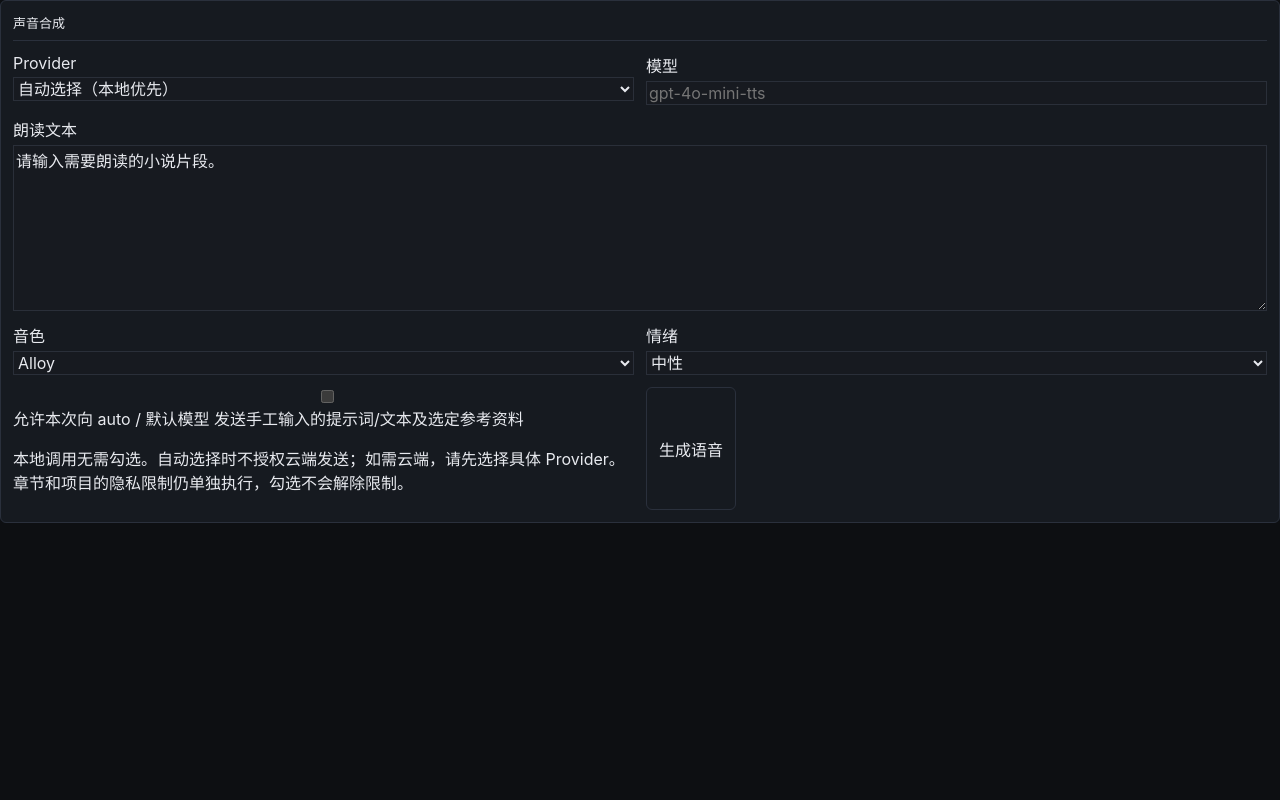
Scenario: publishes a failed speech task without audio
Step 1. Click the button "生成语音" → (691, 448), box [646,387,736,510]
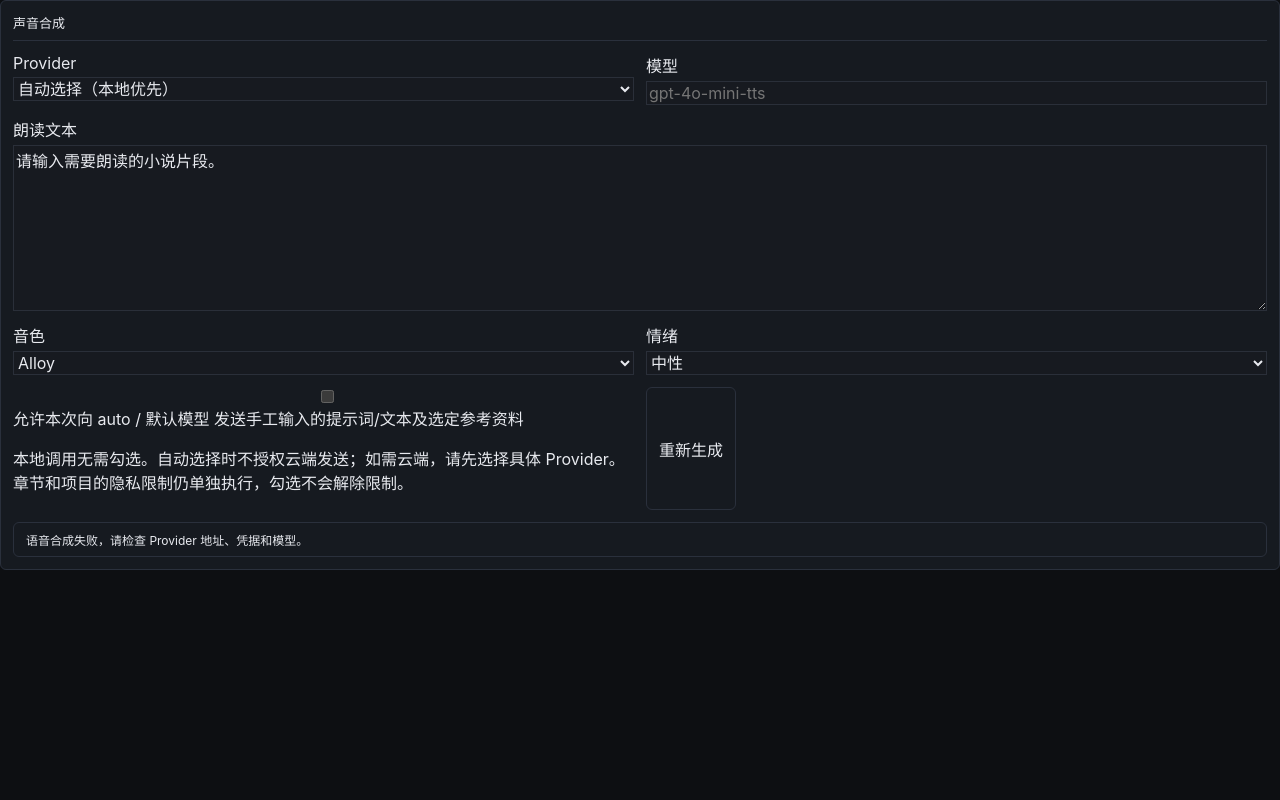
Expected: the message "语音合成失败，请检查 Provider 地址、凭据和模型。" is shown, [13,522,1267,557]
